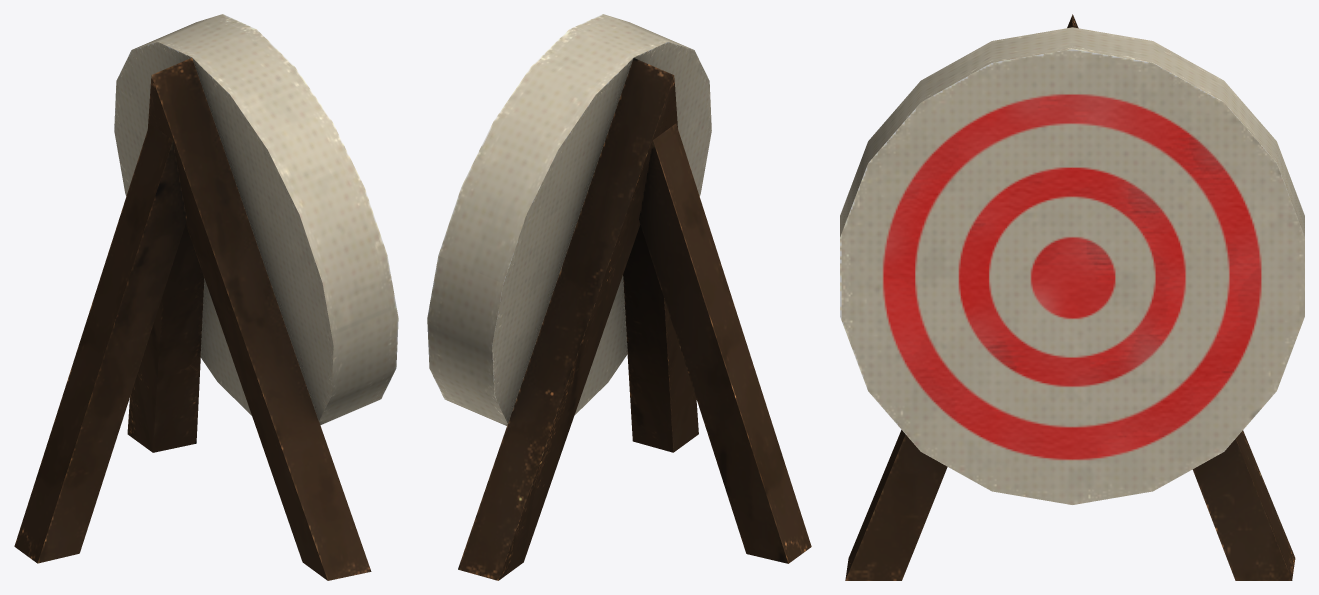
The model's file is Target.fbx.
The picture shows the model from 3 angles, left to right: view 1: azimuth 30°, elevation 25°; view 2: azimuth 150°, elevation 25°; view 3: azimuth 270°, elevation 25°; orthographic projection. The views are drawn at different scales.
Visible parts, largest first — view 1: Target; view 2: Target; view 3: Target.
Boxes of the visible parts, x1=… form: Target: x1=14, y1=14, x2=398, y2=580; Target: x1=427, y1=14, x2=811, y2=580; Target: x1=840, y1=14, x2=1304, y2=580.
Size of the model in its own units: 88.67 by 135 by 109.
